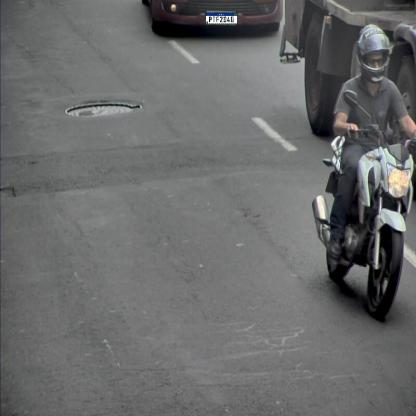PlacaM: (206, 12, 238, 24)
